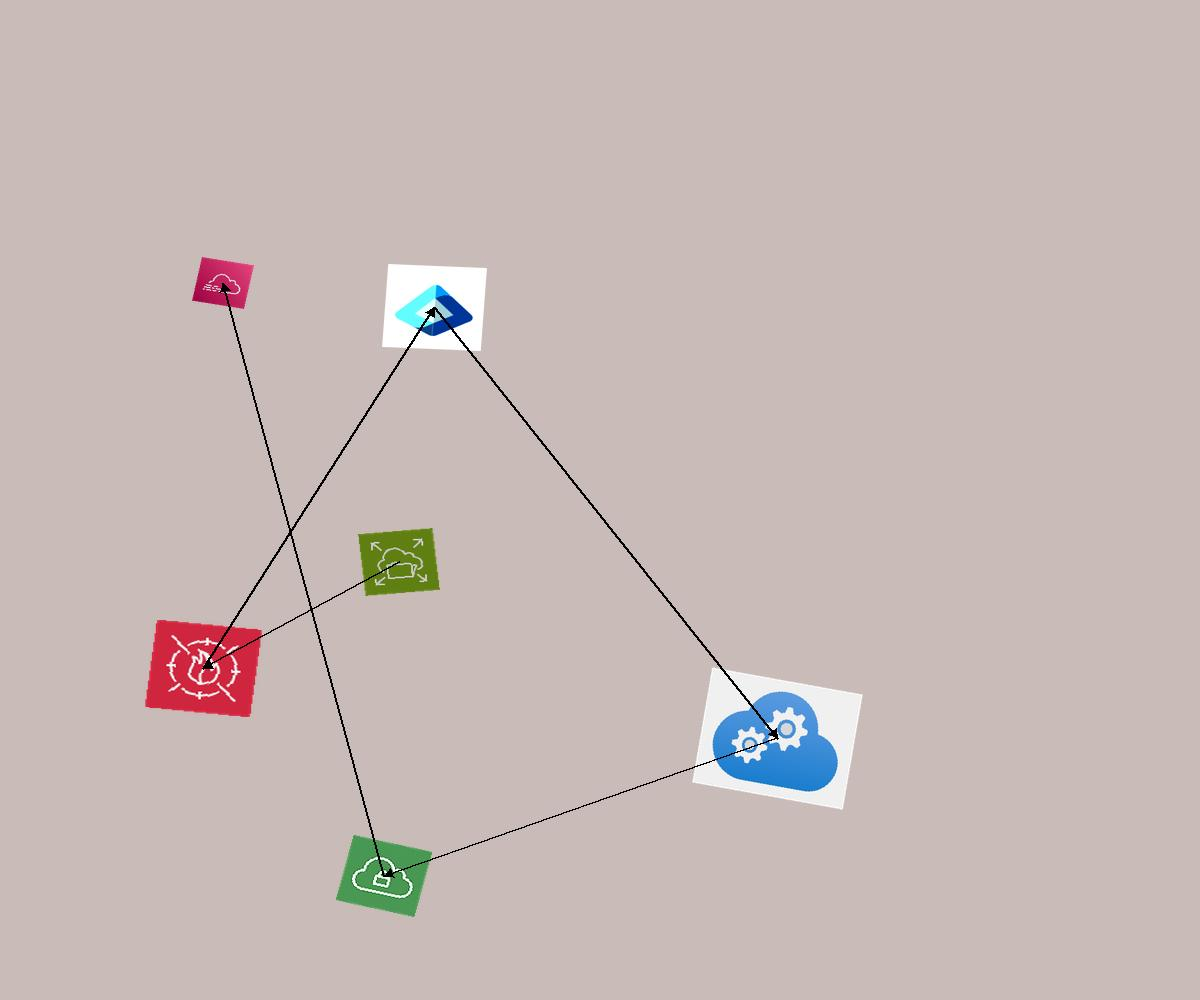AWS-CloudTrail: (192, 257, 254, 309)
AWS-EFS: (358, 528, 440, 596)
AWS-Private_vpc: (335, 835, 433, 917)
AWS-WAF: (144, 619, 263, 718)
Azure_cloud_services: (692, 667, 863, 810)
Azure_microsoft_entra: (382, 264, 487, 351)
